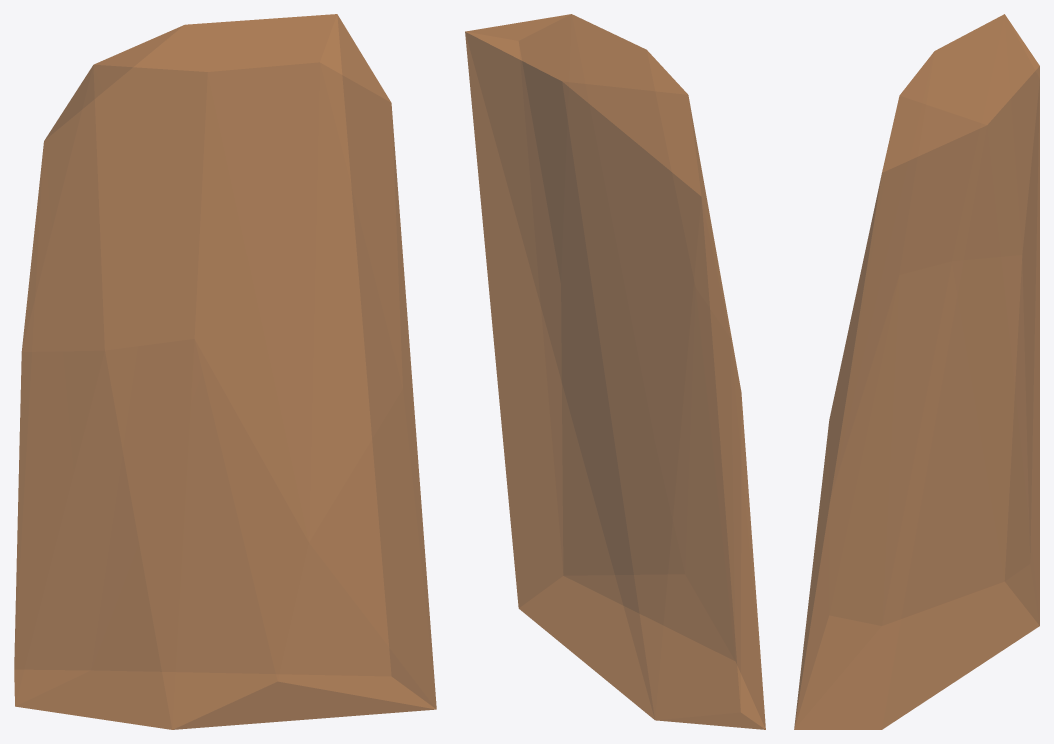
3 views of the same model, side by side, from view 1: azimuth 30°, elevation 25°; view 2: azimuth 150°, elevation 25°; view 3: azimuth 270°, elevation 25° (orthographic). The views are drawn at different scales.
Visible parts, largest first — view 1: Shape_IndexedFaceSet.023_Shape_IndexedFaceSet.15636; view 2: Shape_IndexedFaceSet.023_Shape_IndexedFaceSet.15636; view 3: Shape_IndexedFaceSet.023_Shape_IndexedFaceSet.15636.
Boxes of the visible parts, x1,y1,x2,y2 form: Shape_IndexedFaceSet.023_Shape_IndexedFaceSet.15636: [14, 14, 436, 729]; Shape_IndexedFaceSet.023_Shape_IndexedFaceSet.15636: [465, 14, 765, 729]; Shape_IndexedFaceSet.023_Shape_IndexedFaceSet.15636: [794, 14, 1039, 729].
Bounding box in the file's own units: 0.1809 × 0.3437 × 0.1266.
